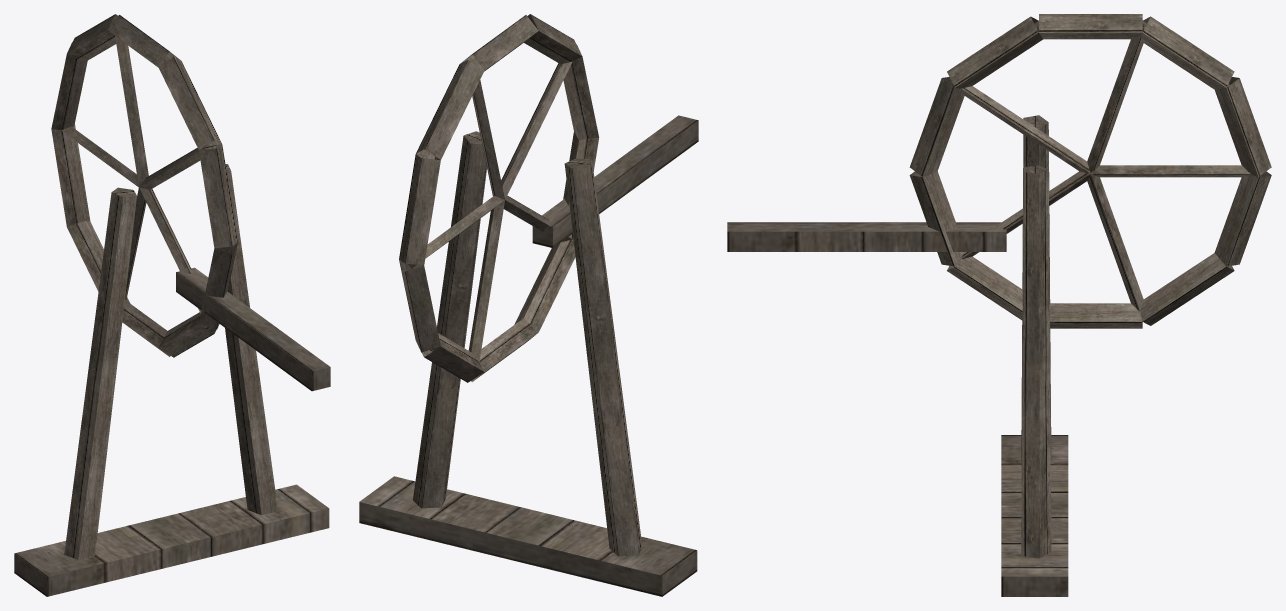
The model's file is spinning_wheel_01.glb.
3 views of the same model, side by side, from view 1: azimuth 30°, elevation 25°; view 2: azimuth 150°, elevation 25°; view 3: azimuth 270°, elevation 25° (orthographic). The views are drawn at different scales.
Parts seen in each view (by area): view 1: spinning_wheel_01; view 2: spinning_wheel_01; view 3: spinning_wheel_01.
Part boxes in pixels (x1=…): spinning_wheel_01: x1=14, y1=14, x2=330, y2=596; spinning_wheel_01: x1=359, y1=14, x2=698, y2=596; spinning_wheel_01: x1=727, y1=14, x2=1271, y2=596.
Size of the model in its own units: 0.6 by 1.01 by 0.9738.
1 material, 1 textured.
